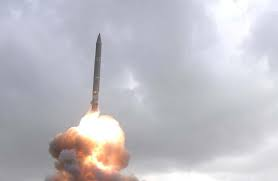maybay_muctieu: (90, 30, 102, 117)
